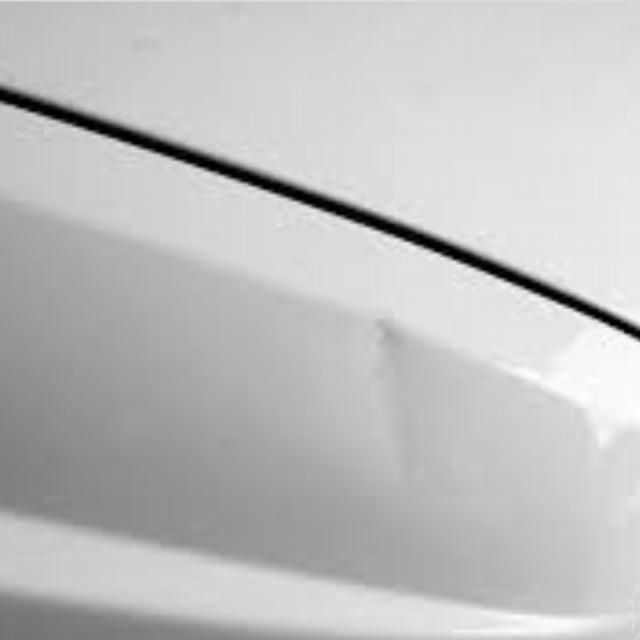dents: (361, 304, 440, 508)
